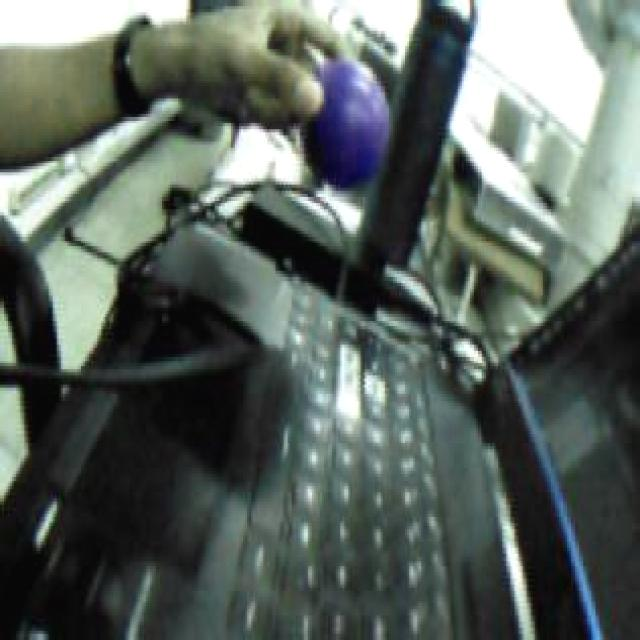BallPurple: (293, 51, 391, 182)
